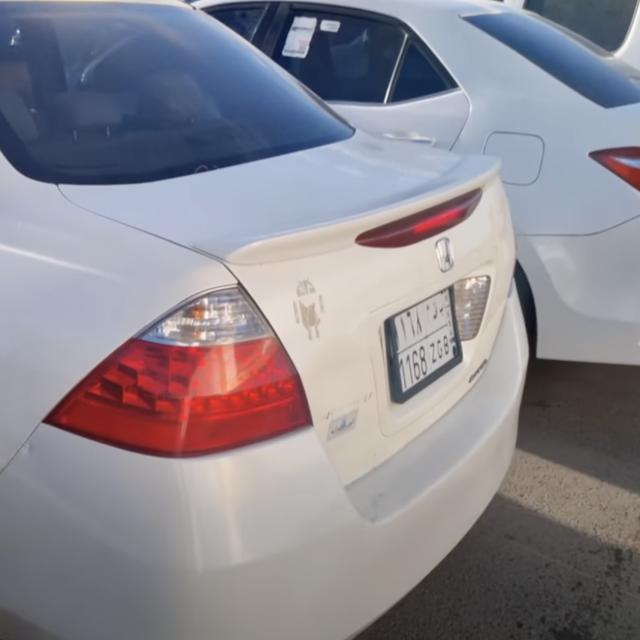license_plate: (386, 274, 468, 404)
